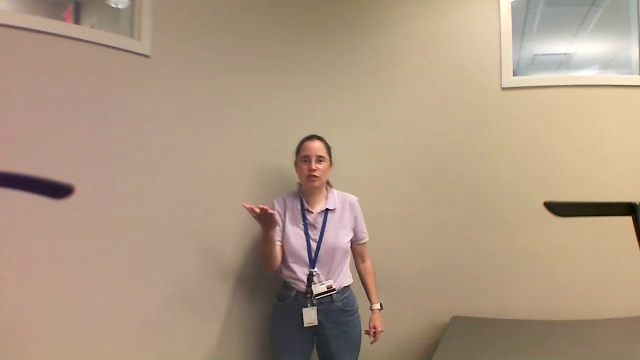land: (231, 192, 293, 237)
